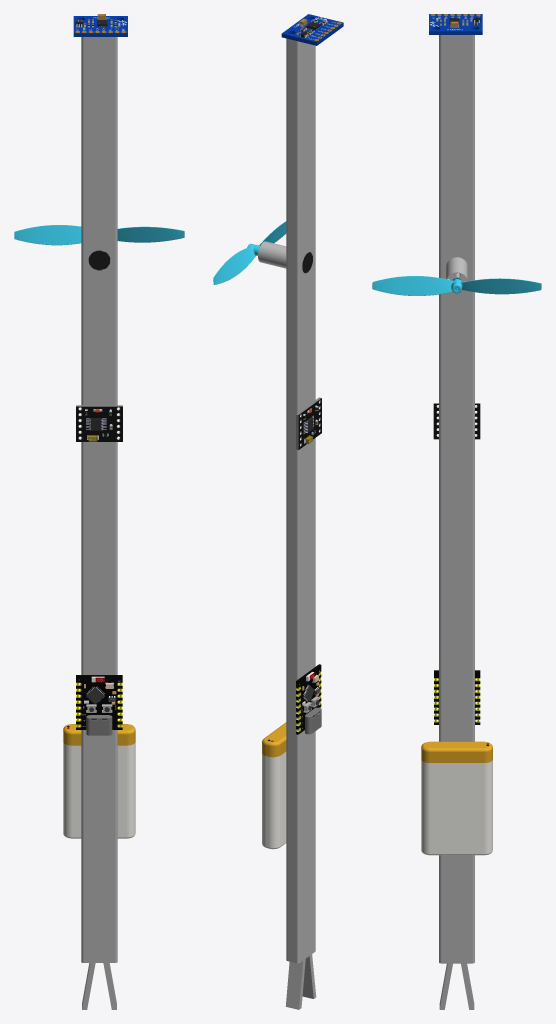
File: iterasi2.obj
3 views of the same model, side by side, from view 1: azimuth 90°, elevation 25°; view 2: azimuth 150°, elevation 25°; view 3: azimuth 270°, elevation 25° (orthographic).
Visible parts, largest first — view 1: Solid1:3, Solid1:5, Solid2:2, Solid1, Solid1:6, Solid1:2, Solid2:3, Solid1:4; view 2: Solid1:3, Solid1:5, Solid2:2, Solid1, Solid1:6, Solid1:2, Solid1:1, Solid2:3, Solid1:4; view 3: Solid1:3, Solid1:5, Solid1, Solid2:3, Solid1:2, Solid2:2, Solid1:1, Solid1:6.
Part boxes in pixels (left/top/right/bottom): Solid1:3: left=81, top=37, right=117, bottom=1009; Solid1:5: left=63, top=742, right=135, bottom=838; Solid2:2: left=76, top=675, right=122, bottom=729; Solid1: left=14, top=225, right=184, bottom=245; Solid1:6: left=76, top=405, right=122, bottom=441; Solid1:2: left=73, top=16, right=127, bottom=36; Solid2:3: left=63, top=724, right=135, bottom=745; Solid1:4: left=86, top=715, right=112, bottom=735; Solid1:3: left=285, top=38, right=316, bottom=1009; Solid1:5: left=262, top=752, right=286, bottom=849; Solid2:2: left=296, top=664, right=321, bottom=734; Solid1: left=213, top=221, right=286, bottom=284; Solid1:6: left=296, top=397, right=321, bottom=449; Solid1:2: left=281, top=14, right=343, bottom=45; Solid1:1: left=258, top=241, right=286, bottom=268; Solid2:3: left=262, top=722, right=286, bottom=757; Solid1:4: left=305, top=707, right=321, bottom=734; Solid1:3: left=439, top=35, right=474, bottom=1009; Solid1:5: left=421, top=760, right=492, bottom=855; Solid1: left=372, top=276, right=541, bottom=295; Solid2:3: left=421, top=741, right=492, bottom=762; Solid1:2: left=429, top=14, right=482, bottom=34; Solid2:2: left=434, top=670, right=480, bottom=724; Solid1:1: left=446, top=257, right=467, bottom=290; Solid1:6: left=433, top=403, right=480, bottom=439.
Bounding box in the file's own units: 36.5 × 424 × 66.02.
